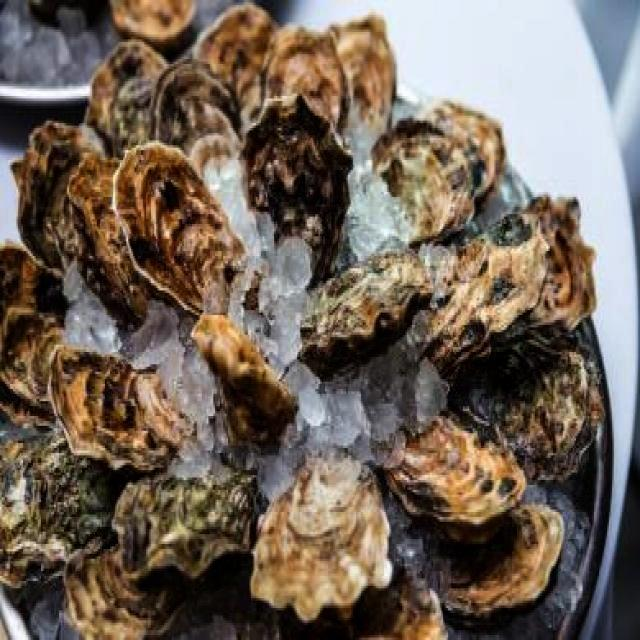Oyster-Closed: (446, 322, 608, 489), (250, 459, 395, 624), (112, 142, 244, 321), (242, 98, 352, 288), (426, 214, 544, 384), (395, 506, 566, 620), (0, 432, 126, 585), (383, 415, 530, 544), (299, 250, 432, 383), (150, 61, 252, 234), (48, 350, 187, 474), (111, 470, 264, 574), (188, 315, 299, 457), (82, 40, 202, 161), (10, 121, 107, 270), (372, 120, 480, 243), (70, 155, 147, 324), (62, 551, 197, 640), (0, 244, 68, 410), (415, 98, 510, 207), (522, 196, 598, 331), (193, 3, 277, 123), (329, 16, 398, 147), (263, 26, 348, 131), (103, 0, 197, 46)
